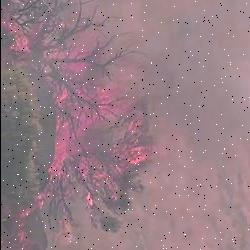fire: (0, 0, 153, 240)
